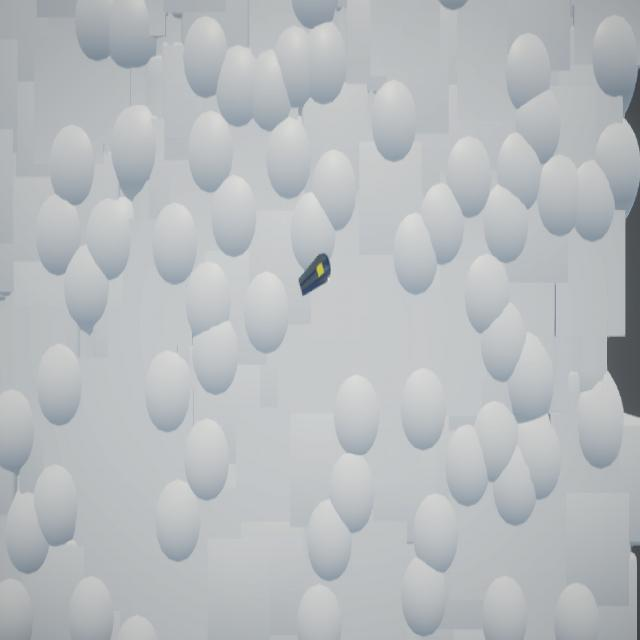handle_folk: (299, 255, 332, 298)
